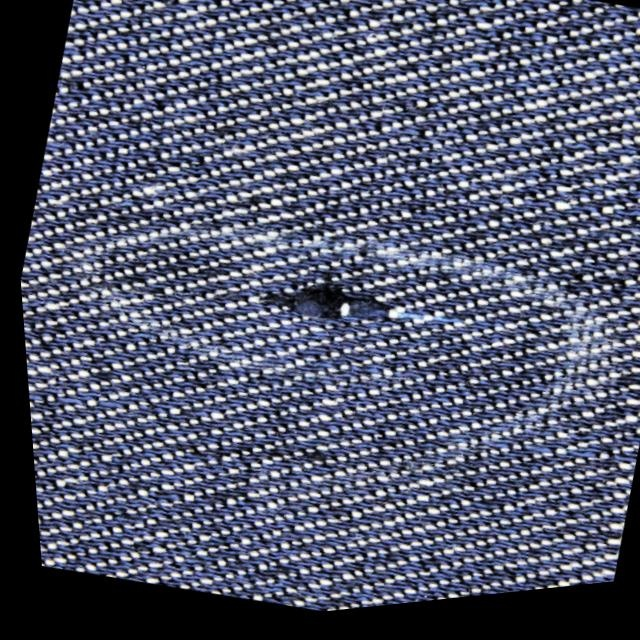Hole: (219, 229, 480, 377)
